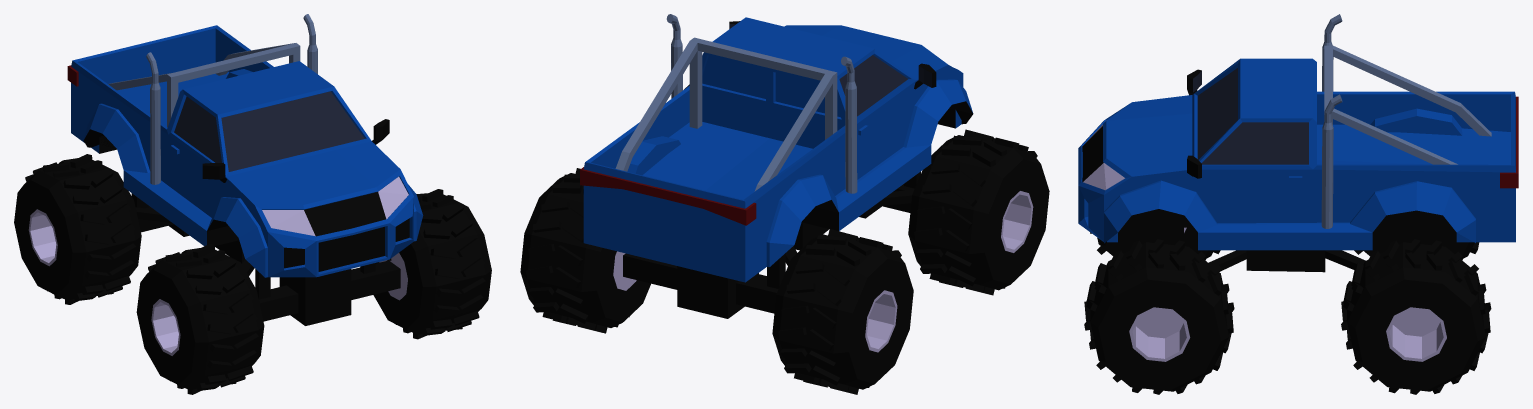
The model's file is crusher.glb.
The picture shows the model from 3 angles, left to right: view 1: azimuth 30°, elevation 25°; view 2: azimuth 150°, elevation 25°; view 3: azimuth 270°, elevation 25°; orthographic projection. The views are drawn at different scales.
Parts seen in each view (by area): view 1: body-4, wheel-front-right, wheel-back-right, wheel-front-left; view 2: body-4, wheel-back-right, wheel-front-right, wheel-back-left; view 3: body-4, wheel-back-left, wheel-front-left, wheel-back-right, wheel-front-right.
Part boxes in pixels (bbox=[...]): body-4: bbox=[67, 14, 423, 325]; wheel-front-right: bbox=[136, 244, 264, 394]; wheel-back-right: bbox=[14, 154, 141, 304]; wheel-front-left: bbox=[373, 189, 491, 339]; body-4: bbox=[580, 14, 973, 318]; wheel-back-right: bbox=[772, 229, 913, 394]; wheel-front-right: bbox=[908, 129, 1049, 295]; wheel-back-left: bbox=[520, 168, 650, 333]; body-4: bbox=[1078, 14, 1518, 272]; wheel-back-left: bbox=[1341, 239, 1491, 394]; wheel-front-left: bbox=[1084, 239, 1234, 394]; wheel-back-right: bbox=[1354, 227, 1479, 260]; wheel-front-right: bbox=[1090, 227, 1220, 260].
Size of the model in its own units: 2.61 by 2.18 by 3.2.
